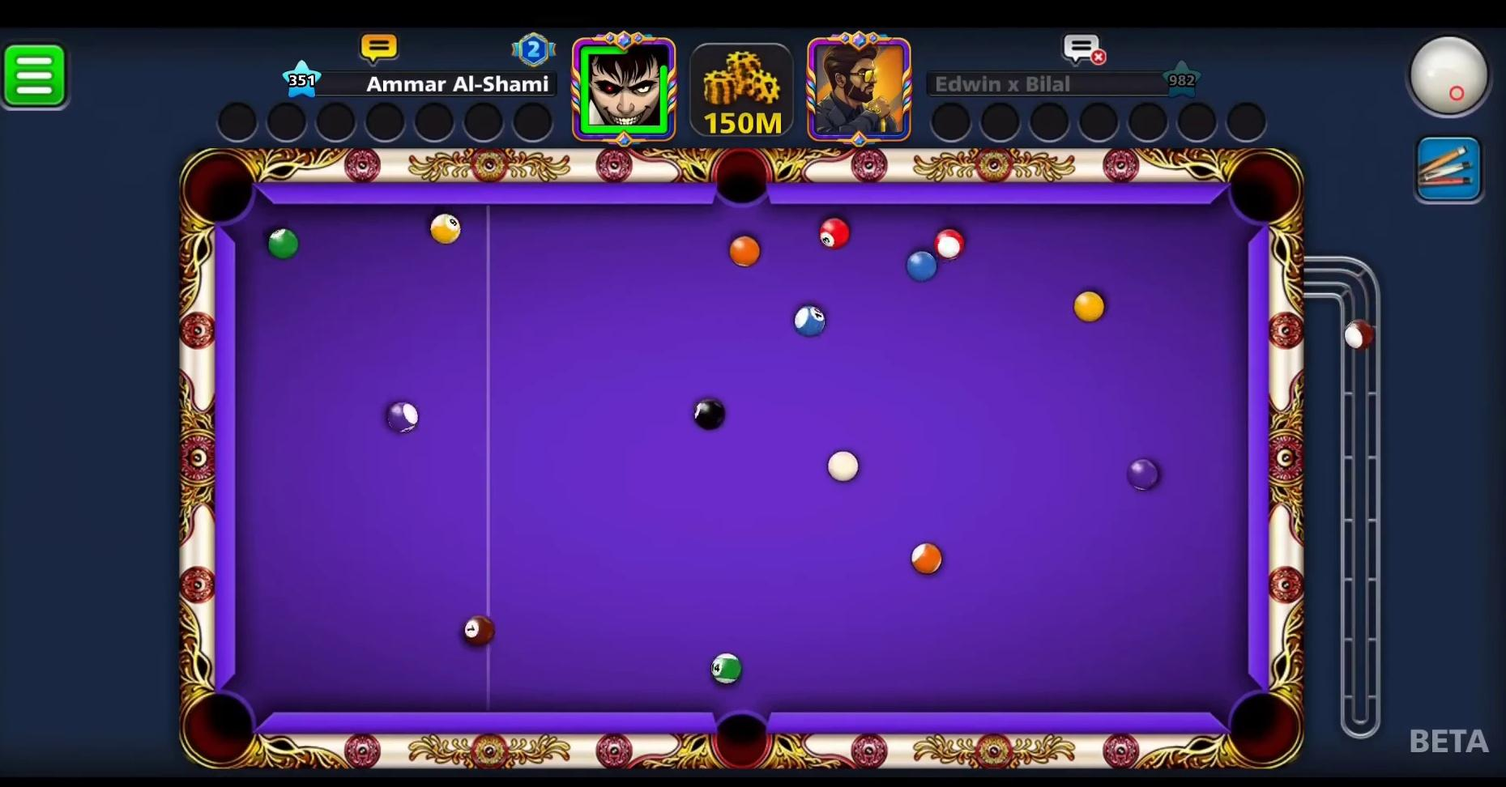Ball: (682, 391, 734, 436), (901, 242, 943, 294), (703, 646, 748, 690), (455, 610, 501, 653), (906, 537, 947, 581), (1123, 452, 1164, 496), (259, 223, 305, 262), (927, 223, 973, 262), (814, 214, 857, 254), (721, 232, 764, 272), (1069, 288, 1111, 327), (422, 211, 465, 249), (381, 398, 422, 436), (790, 301, 829, 338)
Hole: (175, 139, 272, 235), (171, 681, 269, 775), (1215, 681, 1308, 776), (1218, 139, 1306, 236), (698, 694, 786, 774), (702, 142, 781, 222)
Play_Area: (233, 202, 1244, 714)
Spin: (1401, 26, 1504, 131)
White: (821, 442, 865, 487)
